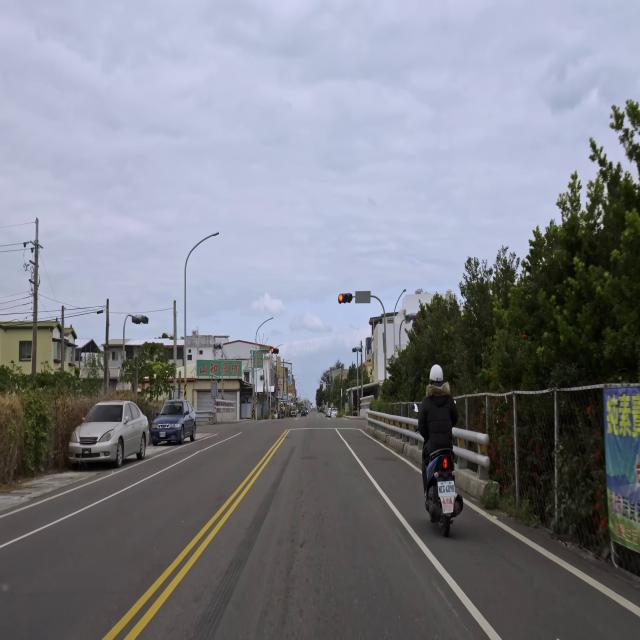red light: (338, 292, 352, 303), (271, 348, 279, 354)
